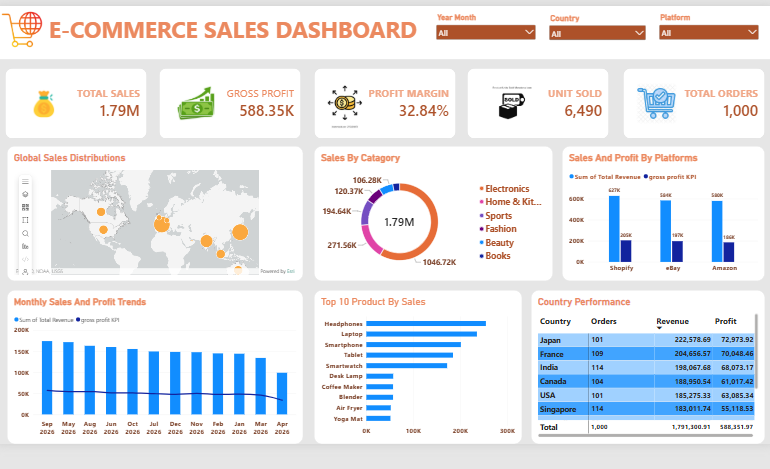

This screenshot's page, from the dashboard's own definition file:
{"tool":"powerbi","page":{"name":"Page 1","canvas":[1920,1080],"ordinal":0},"visuals":[{"type":"textbox","box":[0,0,1920,131],"z":0},{"type":"image","box":[0,7.6,133.5,100.8],"z":1000},{"type":"cardVisual","fields":{"Data":["Ecom_Sales_Data (2).total sales"]},"box":[24.6,152.8,350,175],"z":2000},{"type":"cardVisual","fields":{"Data":["Ecom_Sales_Data (2).gross profit KPI"]},"box":[404.2,152.8,350,175],"z":3000},{"type":"cardVisual","fields":{"Data":["Ecom_Sales_Data (2).PROFIT MARGIN"]},"box":[786.2,152.8,350,175],"z":4000},{"type":"cardVisual","fields":{"Data":["Ecom_Sales_Data (2).UNIT SOLD DISPLAY"]},"box":[1163.3,152.8,350,175],"z":5000},{"type":"cardVisual","fields":{"Data":["Ecom_Sales_Data (2).TOTAL ORDERS DISPLAY"]},"box":[1547.8,152.8,350,175],"z":6000},{"type":"image","box":[66.5,182.4,108.4,118.3],"z":7000},{"type":"image","box":[446.1,177.5,103.5,125.7],"z":8000},{"type":"image","box":[808.4,182.4,108.4,120.8],"z":9000},{"type":"image","box":[1190.4,170.1,167.6,143],"z":10000},{"type":"image","box":[1579.9,167.6,101.1,145.4],"z":11000},{"type":"esriVisual","title":"Global Sales Distributions","fields":{"Location":["Ecom_Sales_Data (2).Customer_Country"],"Size":["Sum(Ecom_Sales_Data (2).Total Revenue)"]},"box":[30,345.1,729.6,332.7],"z":12000},{"type":"donutChart","title":"Sales By Catagory","fields":{"Category":["Ecom_Sales_Data (2).Product_Category"],"Y":["Sum(Ecom_Sales_Data (2).Total Revenue)"]},"box":[786.2,345.1,589.1,332.7],"z":13000},{"type":"clusteredColumnChart","title":"Sales And Profit By Platforms","fields":{"Category":["Ecom_Sales_Data (2).Platform"],"Y":["Sum(Ecom_Sales_Data (2).Total Revenue)","Ecom_Sales_Data (2).gross profit KPI"]},"box":[1397.5,345.1,500.3,332.7],"z":14000},{"type":"lineClusteredColumnComboChart","title":"Monthly Sales And Profit Trends","fields":{"Category":["calender.year month"],"Y":["Sum(Ecom_Sales_Data (2).Total Revenue)"],"Y2":["Ecom_Sales_Data (2).gross profit KPI"]},"box":[29.6,700,729.6,379.6],"z":14001},{"type":"barChart","title":"Top 10 Product By Sales","fields":{"Category":["Ecom_Sales_Data (2).Product_Name"],"Y":["Sum(Ecom_Sales_Data (2).Total Revenue)"]},"box":[786.2,700,512.7,379.6],"z":14002},{"type":"pivotTable","title":"Country Performance","fields":{"Rows":["Ecom_Sales_Data (2).Customer_Country"],"Values":["Ecom_Sales_Data (2).TOTAL ORDERS DISPLAY","Sum(Ecom_Sales_Data (2).Total Revenue)","Ecom_Sales_Data (2).gross profit KPI"]},"box":[1321.1,700,576.7,379.6],"z":14003},{"type":"slicer","fields":{"Values":["calender.year month"]},"box":[1082,17.3,256.3,98.6],"z":14004},{"type":"slicer","fields":{"Values":["Ecom_Sales_Data (2).Customer_Country"]},"box":[1360.5,17.3,248.9,98.6],"z":14005},{"type":"slicer","fields":{"Values":["Ecom_Sales_Data (2).Platform"]},"box":[1631.6,17.3,256.3,98.6],"z":14006}]}

Visuals, with their boxes on the page's 1920x1080 design canvas (x1, y1, x2, y2). These are canvas units, not pixel positions in the 770x469 screenshot, which may show the page scaled, cropped or inside an application window:
textbox: {"x1": 0, "y1": 0, "x2": 1920, "y2": 131}
image: {"x1": 0, "y1": 8, "x2": 134, "y2": 108}
cardVisual - Ecom_Sales_Data (2).total sales: {"x1": 25, "y1": 153, "x2": 375, "y2": 328}
cardVisual - Ecom_Sales_Data (2).gross profit KPI: {"x1": 404, "y1": 153, "x2": 754, "y2": 328}
cardVisual - Ecom_Sales_Data (2).PROFIT MARGIN: {"x1": 786, "y1": 153, "x2": 1136, "y2": 328}
cardVisual - Ecom_Sales_Data (2).UNIT SOLD DISPLAY: {"x1": 1163, "y1": 153, "x2": 1513, "y2": 328}
cardVisual - Ecom_Sales_Data (2).TOTAL ORDERS DISPLAY: {"x1": 1548, "y1": 153, "x2": 1898, "y2": 328}
image: {"x1": 66, "y1": 182, "x2": 175, "y2": 301}
image: {"x1": 446, "y1": 178, "x2": 550, "y2": 303}
image: {"x1": 808, "y1": 182, "x2": 917, "y2": 303}
image: {"x1": 1190, "y1": 170, "x2": 1358, "y2": 313}
image: {"x1": 1580, "y1": 168, "x2": 1681, "y2": 313}
"Global Sales Distributions" esriVisual: {"x1": 30, "y1": 345, "x2": 760, "y2": 678}
"Sales By Catagory" donutChart: {"x1": 786, "y1": 345, "x2": 1375, "y2": 678}
"Sales And Profit By Platforms" clusteredColumnChart: {"x1": 1398, "y1": 345, "x2": 1898, "y2": 678}
"Monthly Sales And Profit Trends" lineClusteredColumnComboChart: {"x1": 30, "y1": 700, "x2": 759, "y2": 1080}
"Top 10 Product By Sales" barChart: {"x1": 786, "y1": 700, "x2": 1299, "y2": 1080}
"Country Performance" pivotTable: {"x1": 1321, "y1": 700, "x2": 1898, "y2": 1080}
slicer - calender.year month: {"x1": 1082, "y1": 17, "x2": 1338, "y2": 116}
slicer - Ecom_Sales_Data (2).Customer_Country: {"x1": 1360, "y1": 17, "x2": 1609, "y2": 116}
slicer - Ecom_Sales_Data (2).Platform: {"x1": 1632, "y1": 17, "x2": 1888, "y2": 116}
